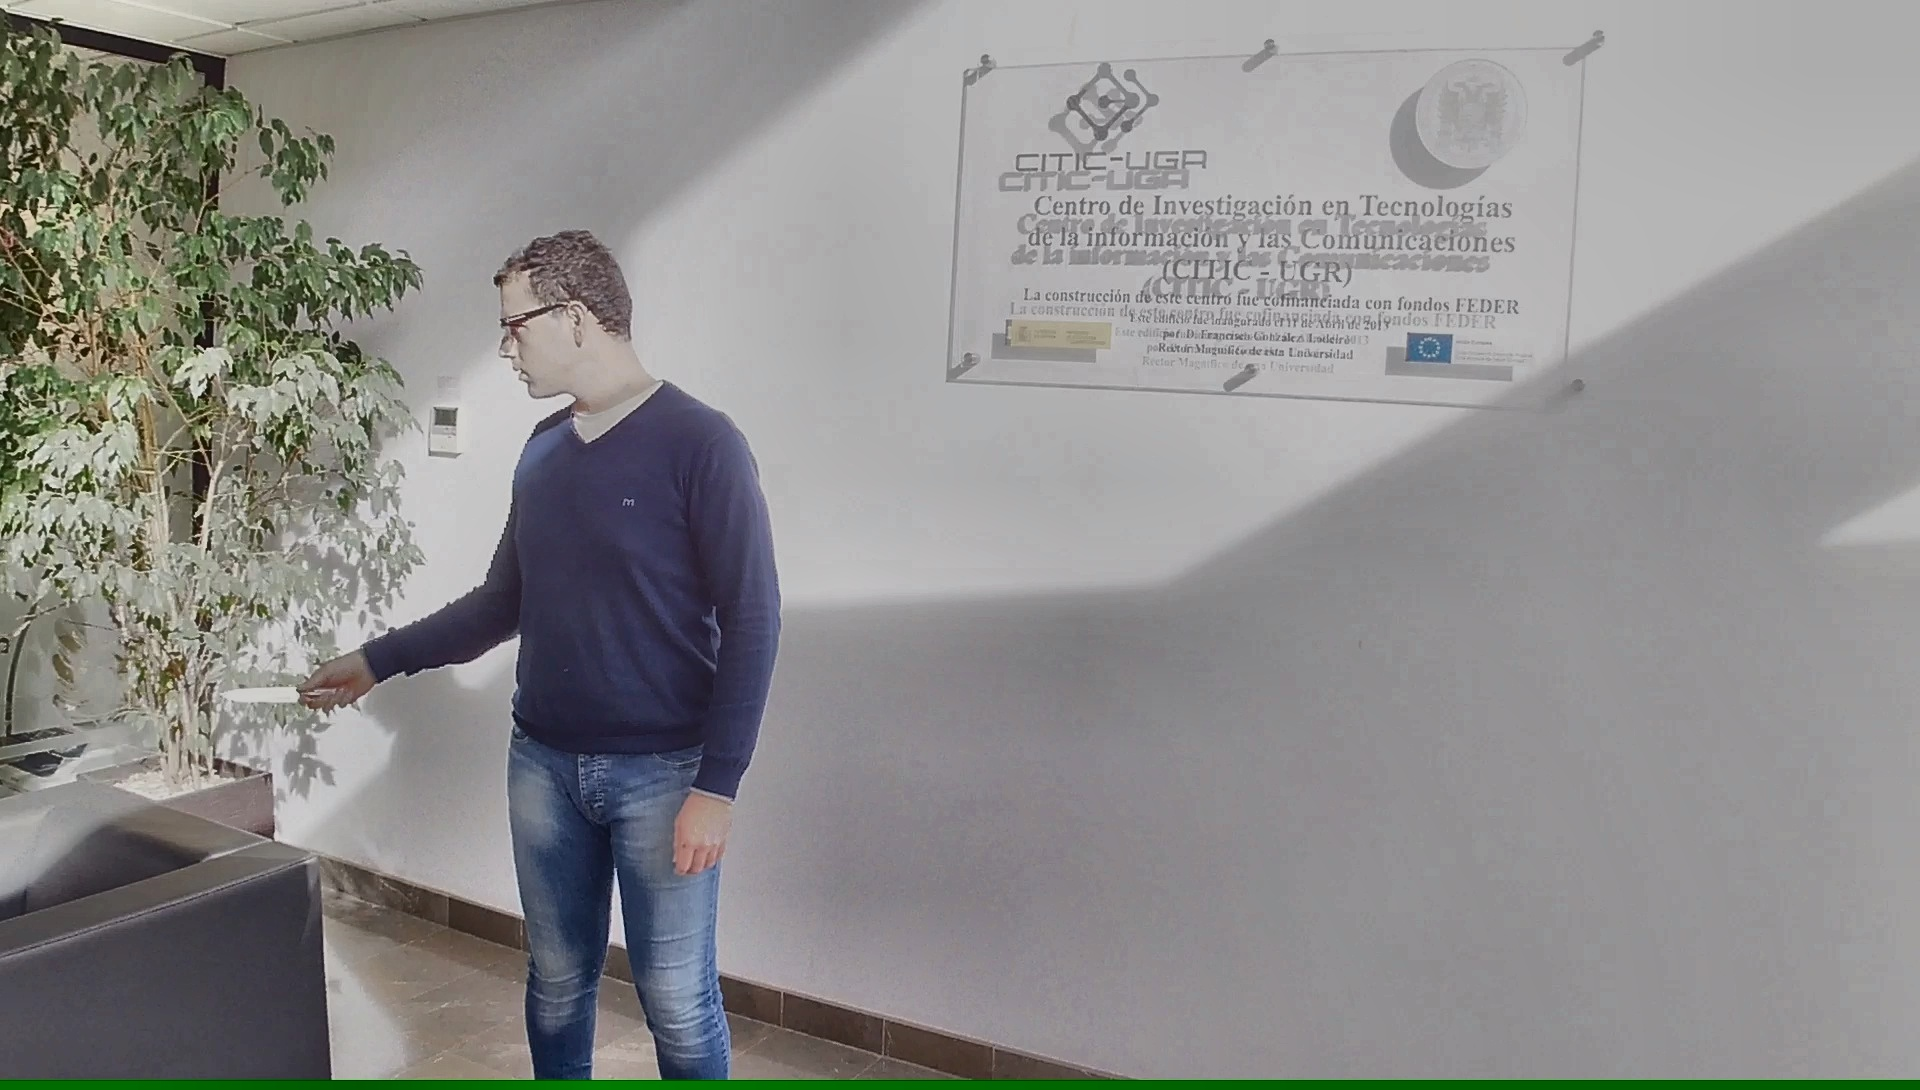knife: (210, 660, 355, 720)
